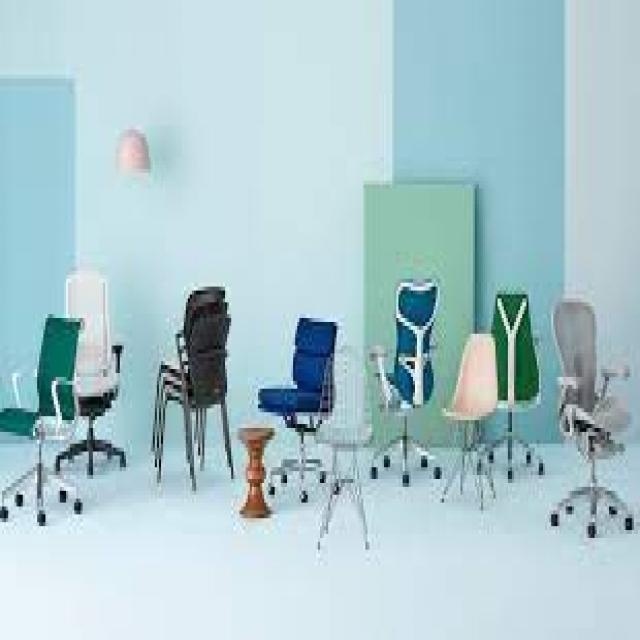chair: (551, 292, 637, 540), (2, 313, 86, 549), (150, 281, 236, 488), (370, 271, 443, 504), (254, 313, 338, 508), (312, 339, 382, 559), (64, 268, 133, 477), (439, 328, 500, 522), (486, 290, 547, 482)
